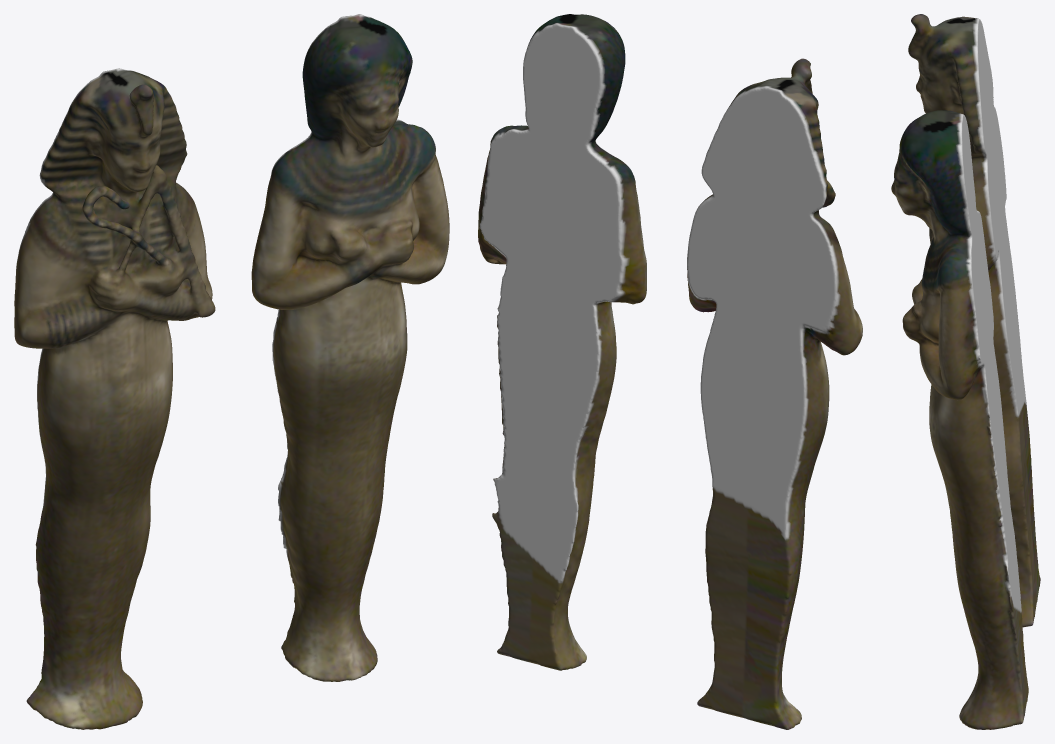
File: tutankhamen-and-ankhesenamun.glb
The picture shows the model from 3 angles, left to right: view 1: azimuth 30°, elevation 25°; view 2: azimuth 150°, elevation 25°; view 3: azimuth 270°, elevation 25°; orthographic projection. The views are drawn at different scales.
Parts seen in each view (by area): view 1: Object_4, Object_2, Object_3, Object_5, Object_6; view 2: Object_5, Object_3, Object_2, Object_4, Object_6; view 3: Object_5, Object_6, Object_3, Object_4, Object_2.
Boxes of the visible parts, box(x1,y1,x2,y2) form: Object_4: box(14, 28, 397, 729); Object_2: box(14, 140, 215, 729); Object_3: box(16, 68, 192, 729); Object_5: box(254, 14, 415, 679); Object_6: box(112, 14, 449, 717); Object_5: box(496, 14, 646, 668); Object_3: box(700, 58, 841, 714); Object_2: box(687, 153, 862, 729); Object_4: box(497, 16, 862, 725); Object_6: box(478, 16, 746, 660); Object_5: box(894, 110, 1028, 714); Object_6: box(891, 44, 1026, 729); Object_3: box(908, 14, 1037, 606); Object_4: box(891, 24, 1038, 729); Object_2: box(922, 63, 1040, 618).
Size of the model in its own units: 1.63 by 2.51 by 0.5639.
